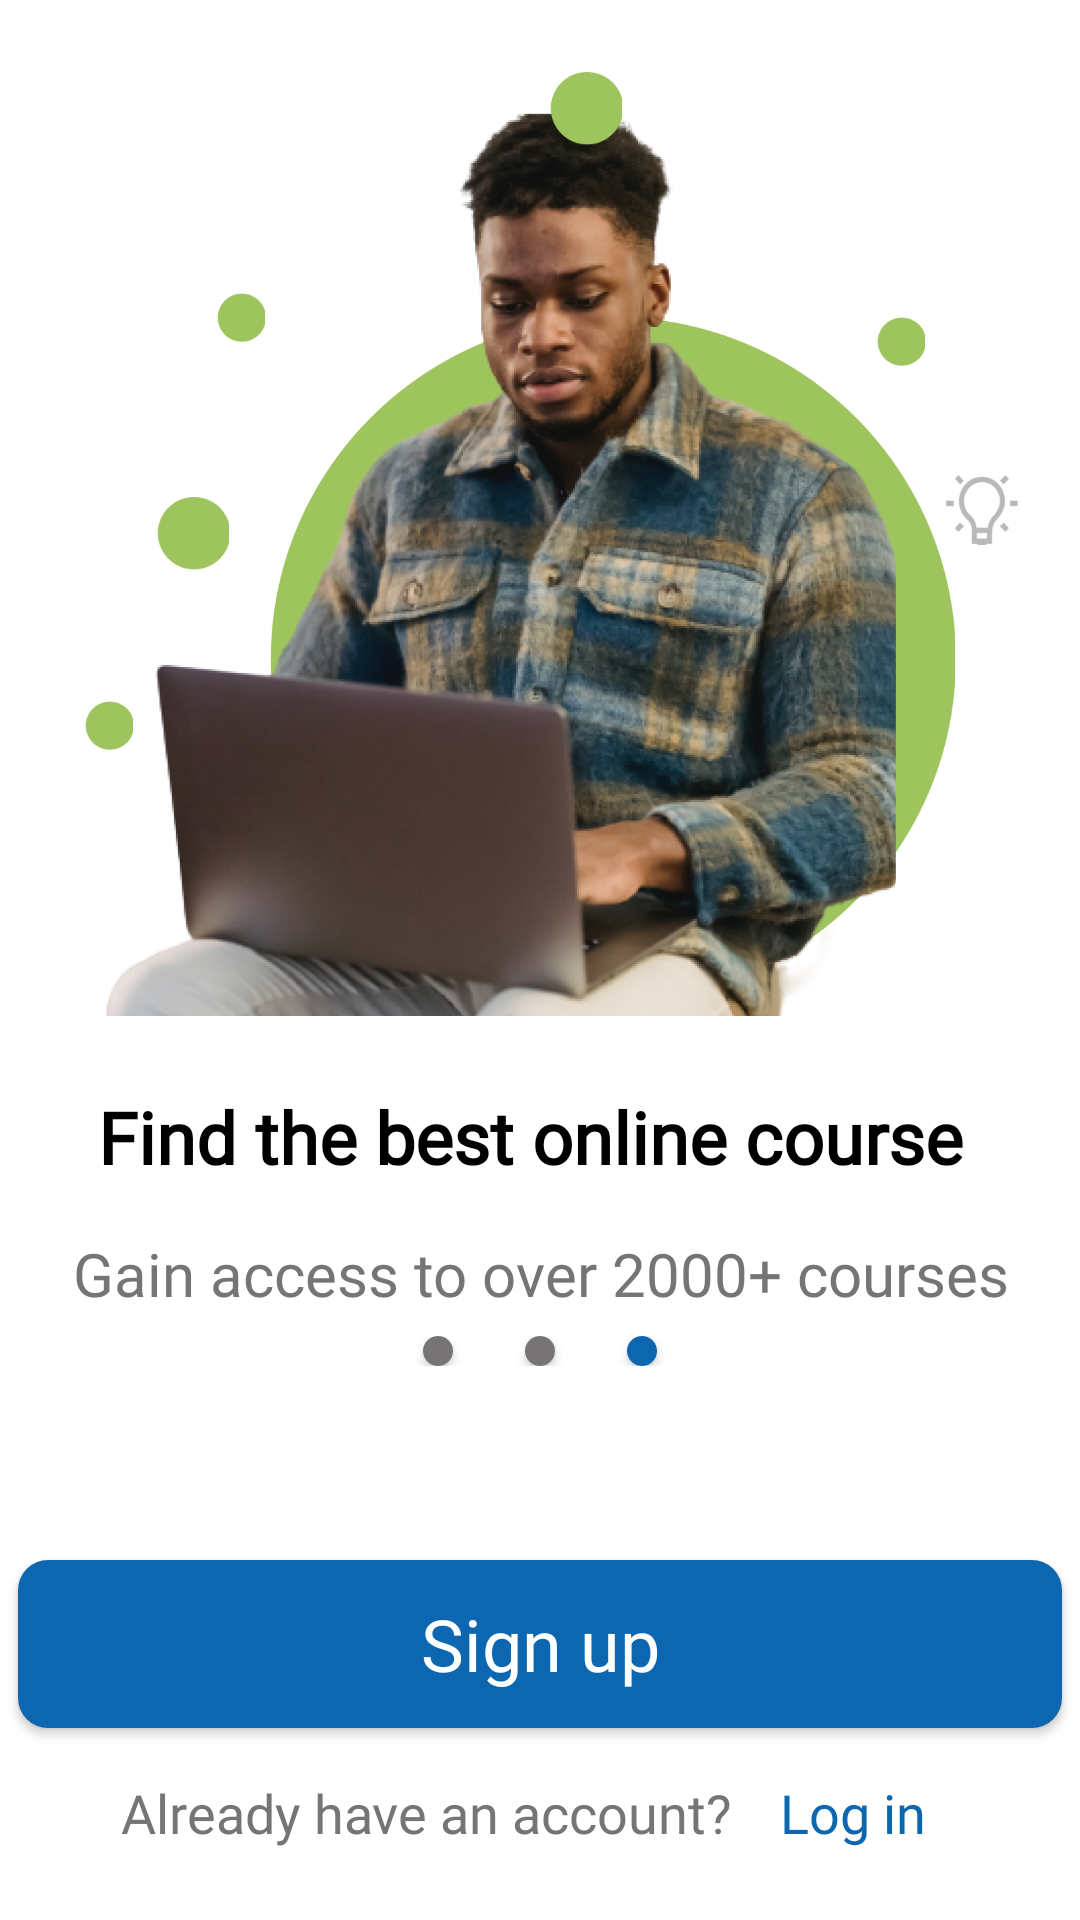

Icon click points for this 1080px×1920px phone screenshot, format (x,y):
idea: (982,510)
